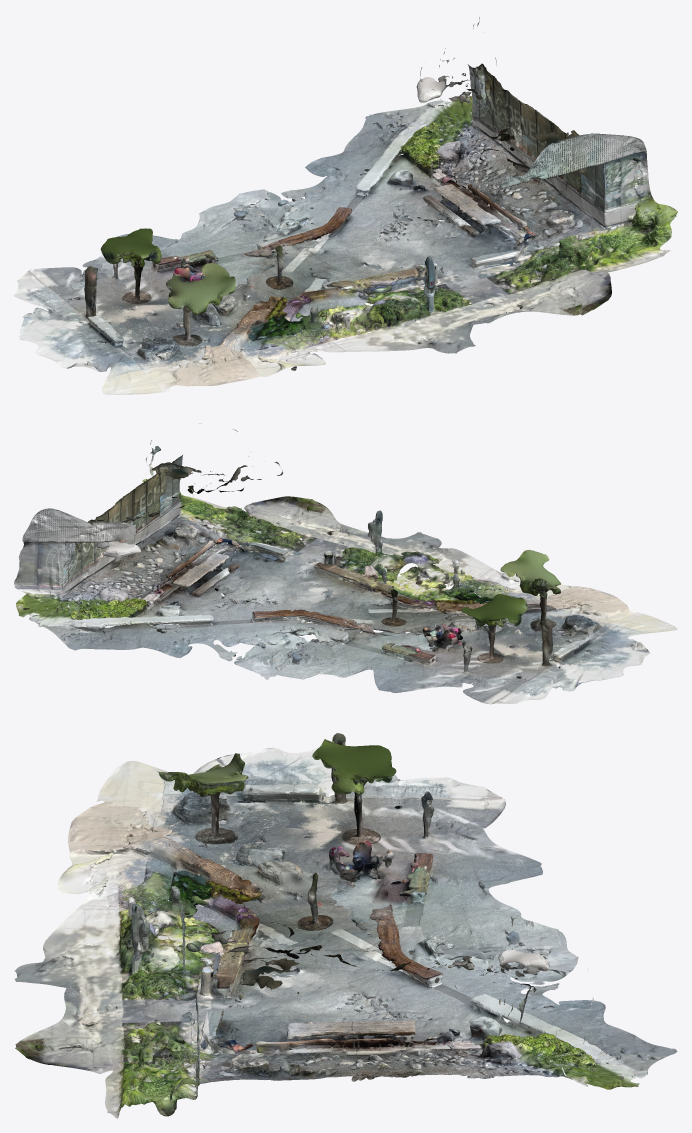
Rendered from Queensboro_View.glb.
3 renders of one model, top to bottom at view 1: azimuth 30°, elevation 25°; view 2: azimuth 150°, elevation 25°; view 3: azimuth 270°, elevation 25°, orthographic. The views are drawn at different scales.
Bounding box in the file's own units: 35.76 × 7.77 × 25.65.
8 materials, 8 textured.
